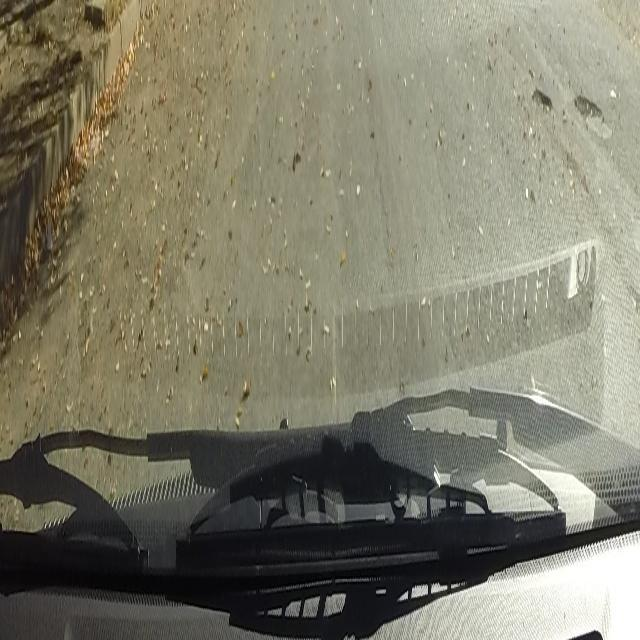pothole: (574, 88, 604, 130), (530, 80, 554, 116)
